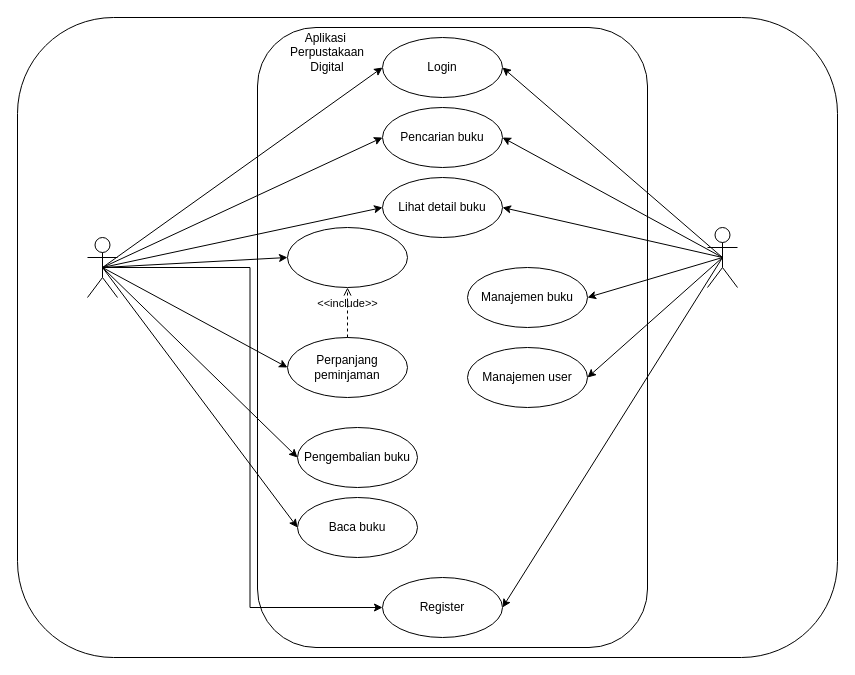
Some shapes in this 855 by 675 pixel diagram are drawn without their labels. The centre of each missing label's shape, as x and y in pixels:
"Admin" belongs at [722,257].
"Pinjam buku" belongs at [347,257].
"User" belongs at [102,267].
